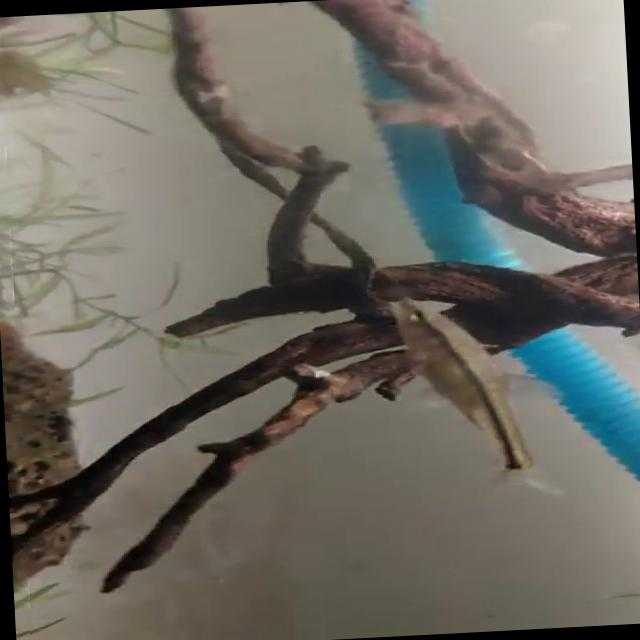Cakil Baligi: (387, 289, 573, 502)
